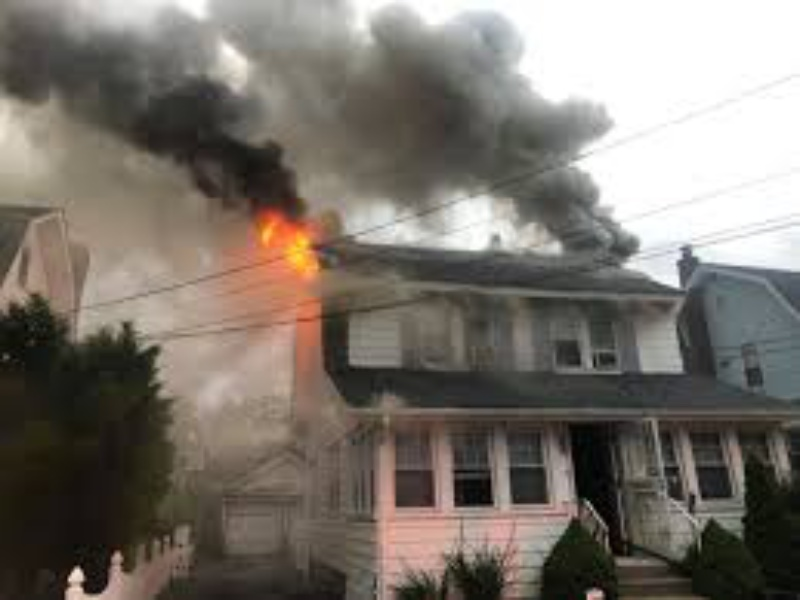fire: (239, 189, 322, 289)
